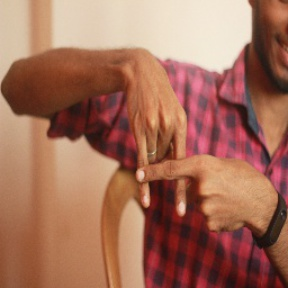H: (121, 116, 219, 228)
